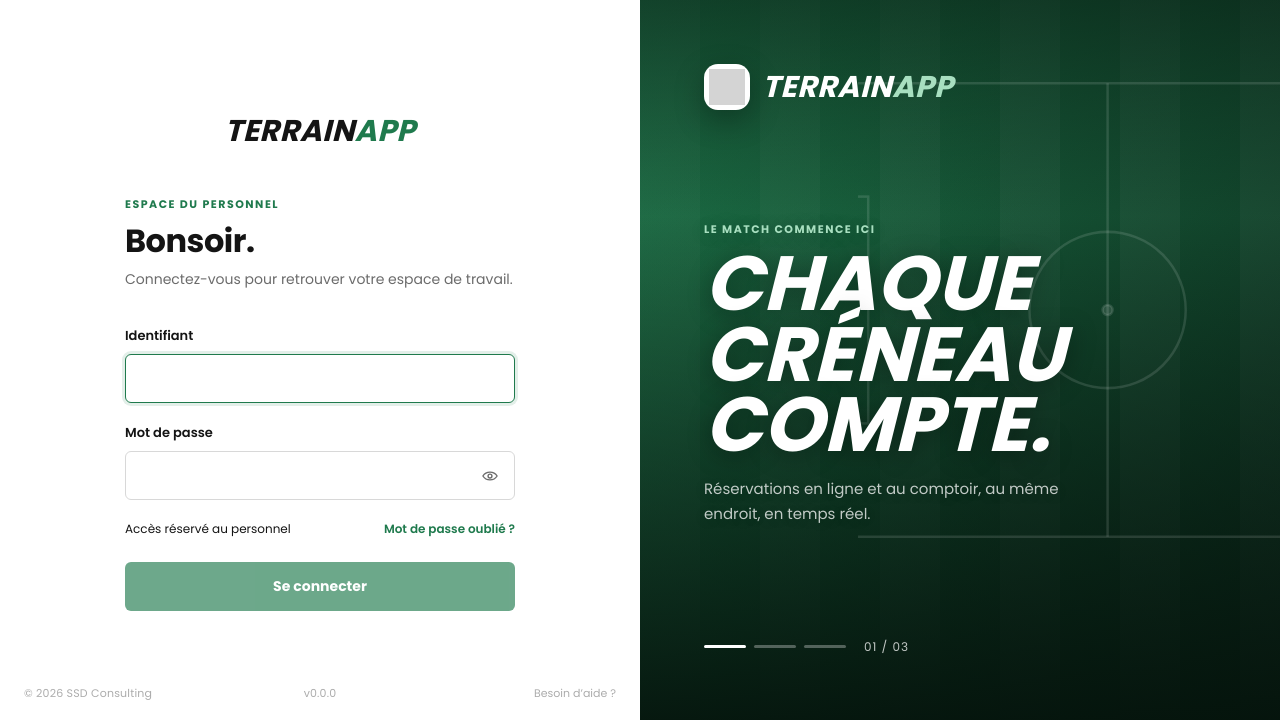
Test: Connexion › asks staff to contact the manager for a temporary password
Click the button "Mot de passe oublié ?".
click(449, 529)  # box [384,520,515,538]
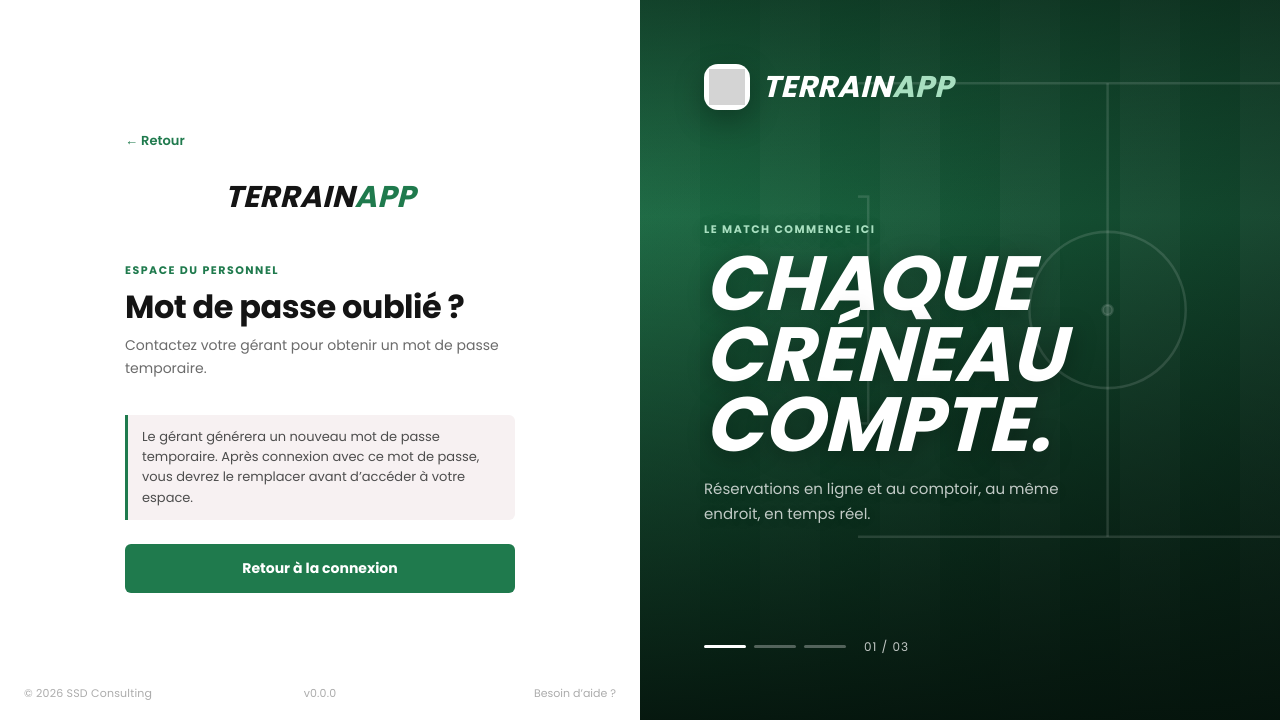
Expected: the text "Contactez votre gérant pour obtenir un mot de passe temporaire" is shown, [125,335,499,378]
